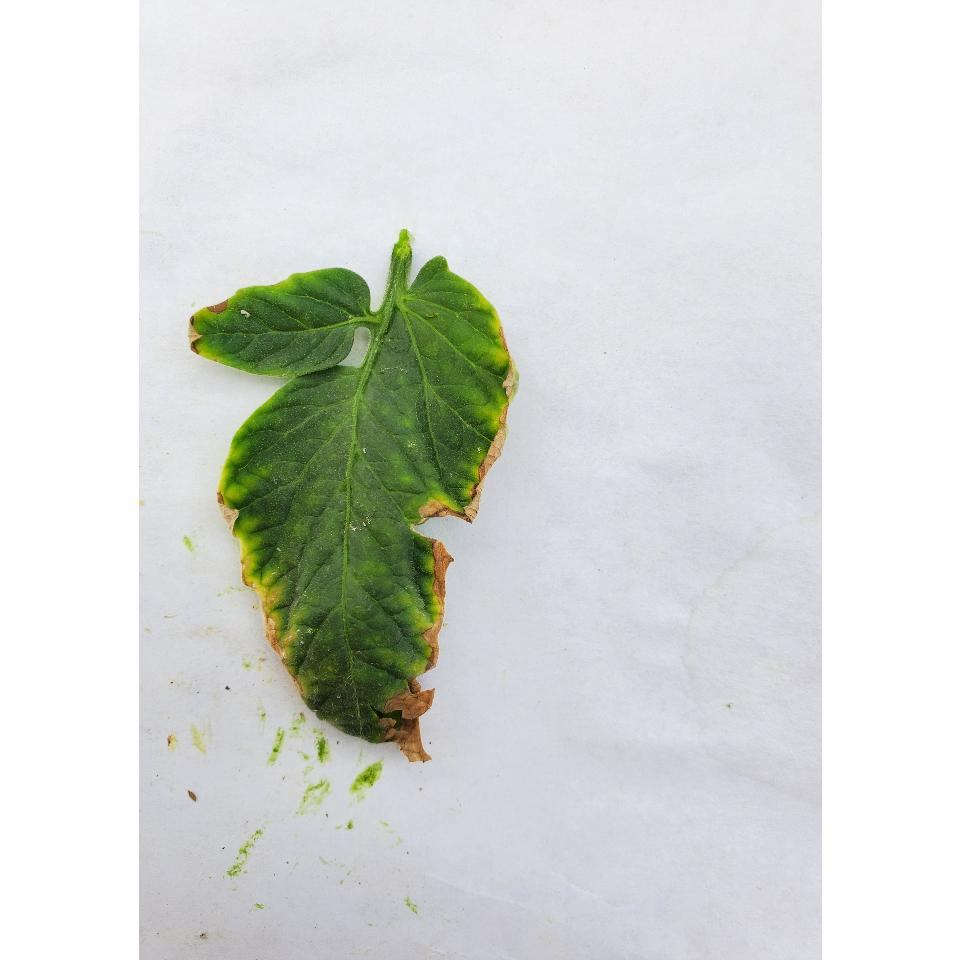tomato_bacterial_blight: (196, 223, 528, 793)
